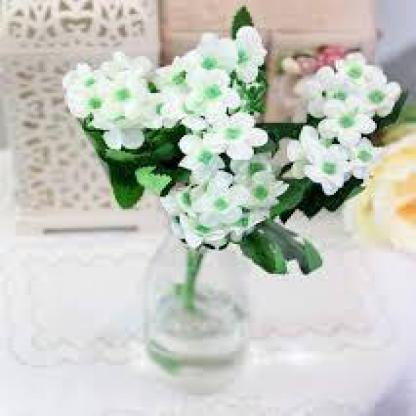Melati: (150, 22, 277, 164), (300, 43, 401, 196), (146, 161, 265, 261), (56, 48, 155, 152)
